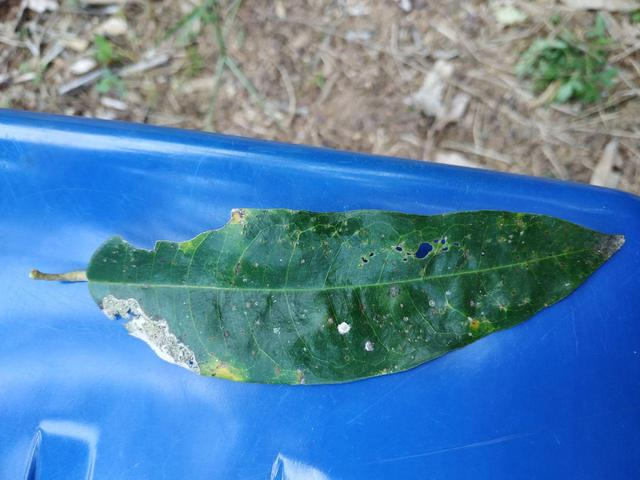blight spot: (347, 233, 472, 273)
